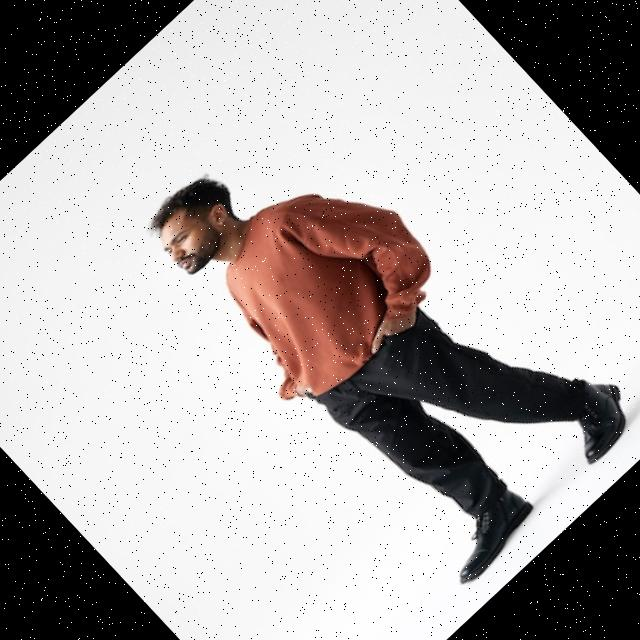Person: (129, 59, 640, 589)
